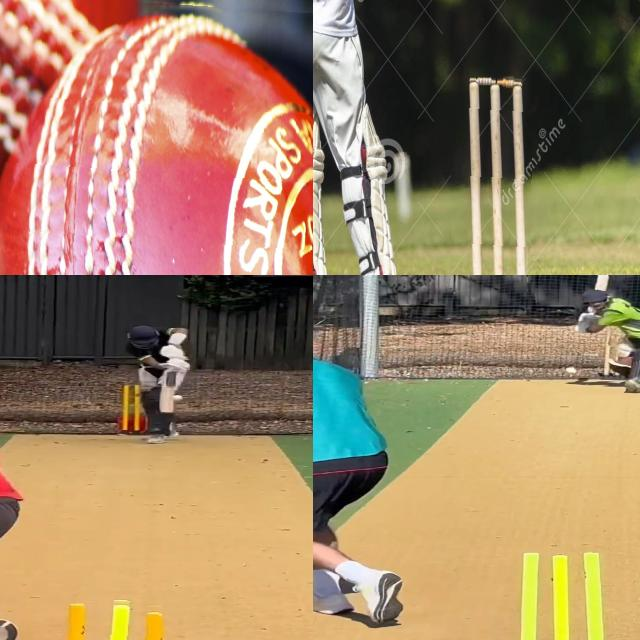Cricket ball: (0, 0, 313, 275), (566, 366, 580, 375), (171, 394, 184, 402)
Stumps: (467, 74, 533, 275), (498, 550, 628, 640), (45, 596, 185, 640)
